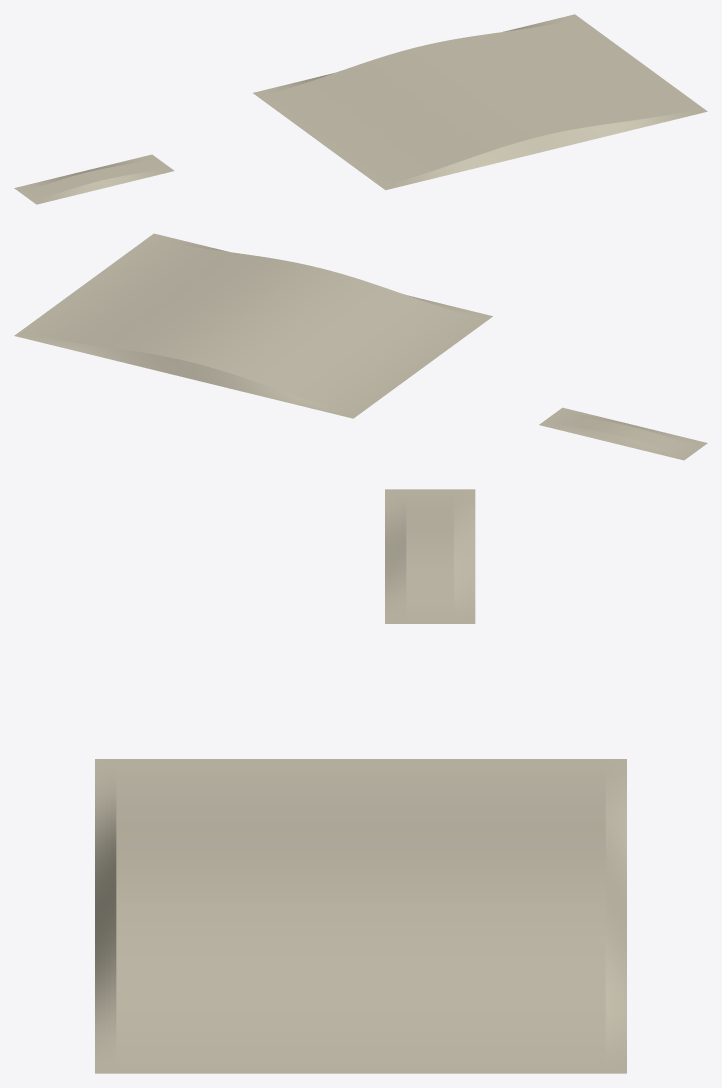
The model's file is Course.glb.
The picture shows the model from 3 angles, top to bottom: view 1: azimuth 30°, elevation 25°; view 2: azimuth 150°, elevation 25°; view 3: azimuth 270°, elevation 25°; orthographic projection. The views are drawn at different scales.
Parts seen in each view (by area): view 1: SuspensionCourse1, SuspensionCourse0; view 2: SuspensionCourse1, SuspensionCourse0; view 3: SuspensionCourse1, SuspensionCourse0.
Boxes of the visible parts, bbox=[...] form: SuspensionCourse1: bbox=[253, 14, 707, 190]; SuspensionCourse0: bbox=[14, 154, 174, 204]; SuspensionCourse1: bbox=[14, 233, 492, 418]; SuspensionCourse0: bbox=[539, 407, 707, 460]; SuspensionCourse1: bbox=[95, 759, 626, 1073]; SuspensionCourse0: bbox=[385, 489, 475, 623].
Size of what is drawn, in the model's own units: 26 by 0.45 by 10.
